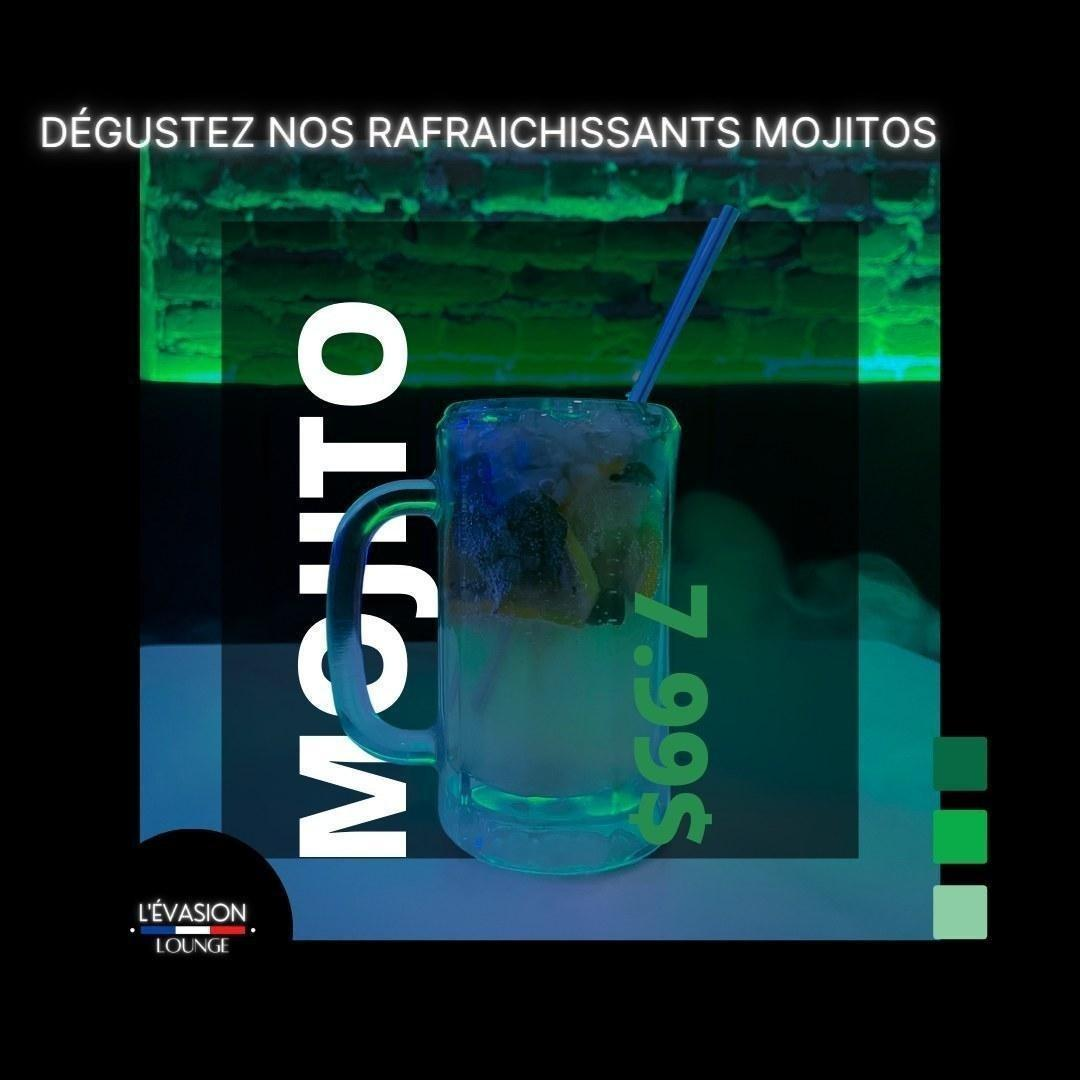glass-mug: (323, 391, 699, 886)
